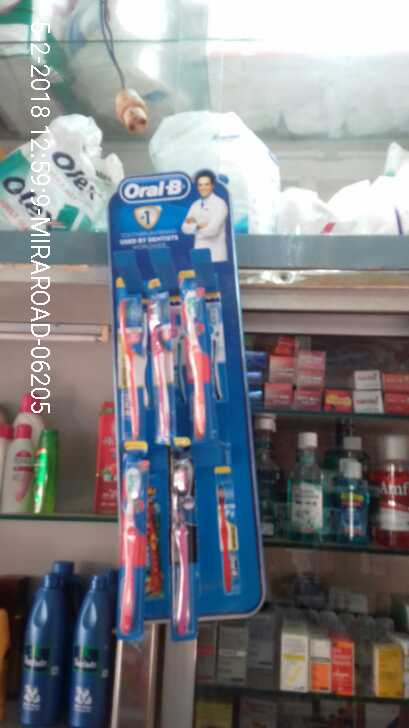oralb: (165, 459, 203, 641), (169, 288, 214, 434), (113, 458, 151, 630), (143, 291, 178, 437), (119, 294, 147, 432)
